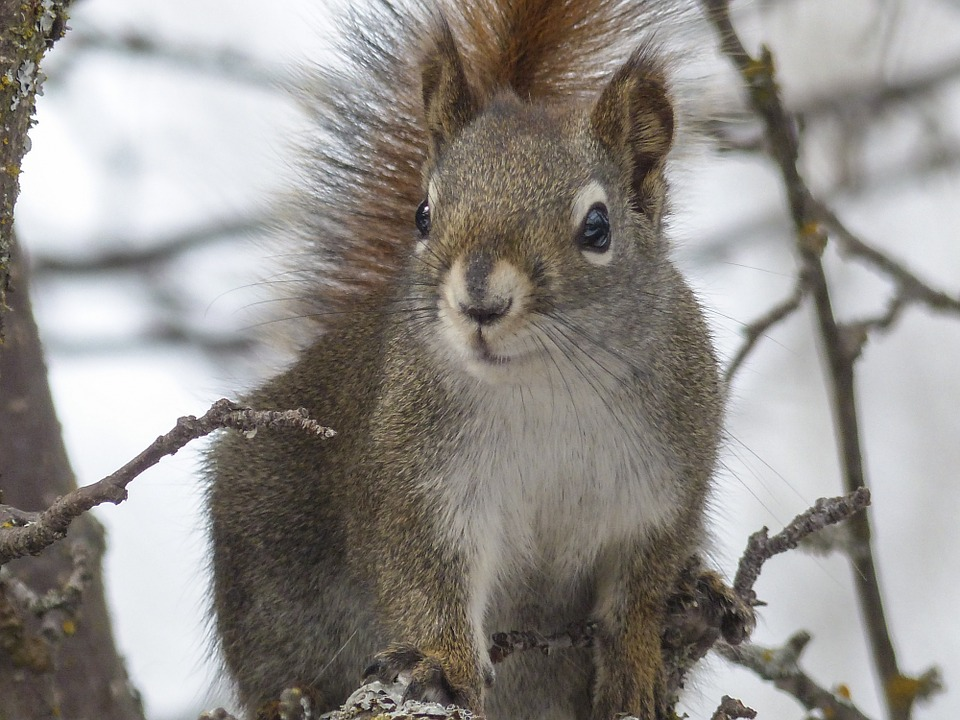squirrel: (210, 1, 721, 720)
